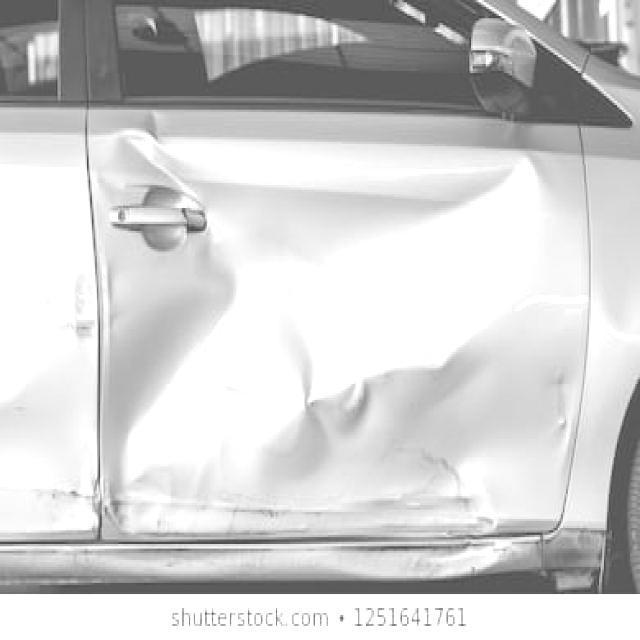minor: (93, 108, 583, 578), (0, 487, 92, 526), (69, 244, 99, 361)
